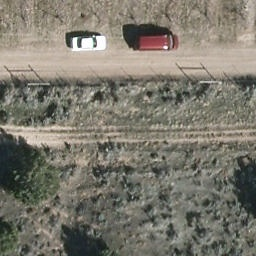car: (70, 37, 107, 51)
van: (134, 35, 179, 51)
